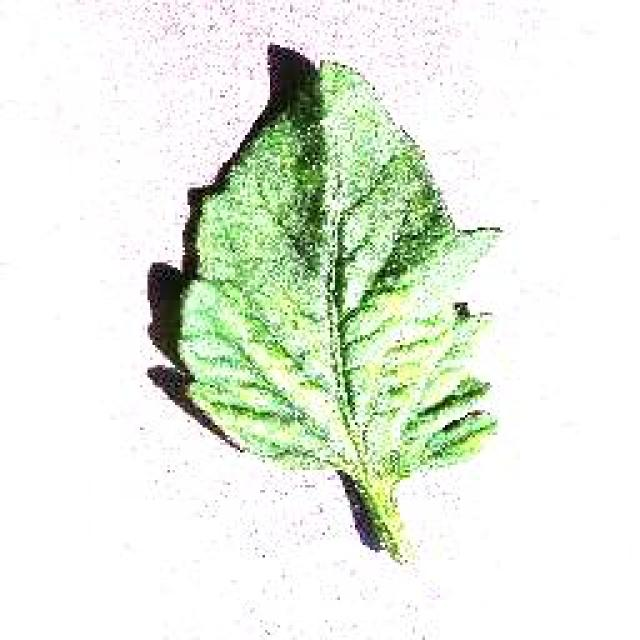Tomato___Tomato_mosaic_virus: (178, 60, 495, 555)
